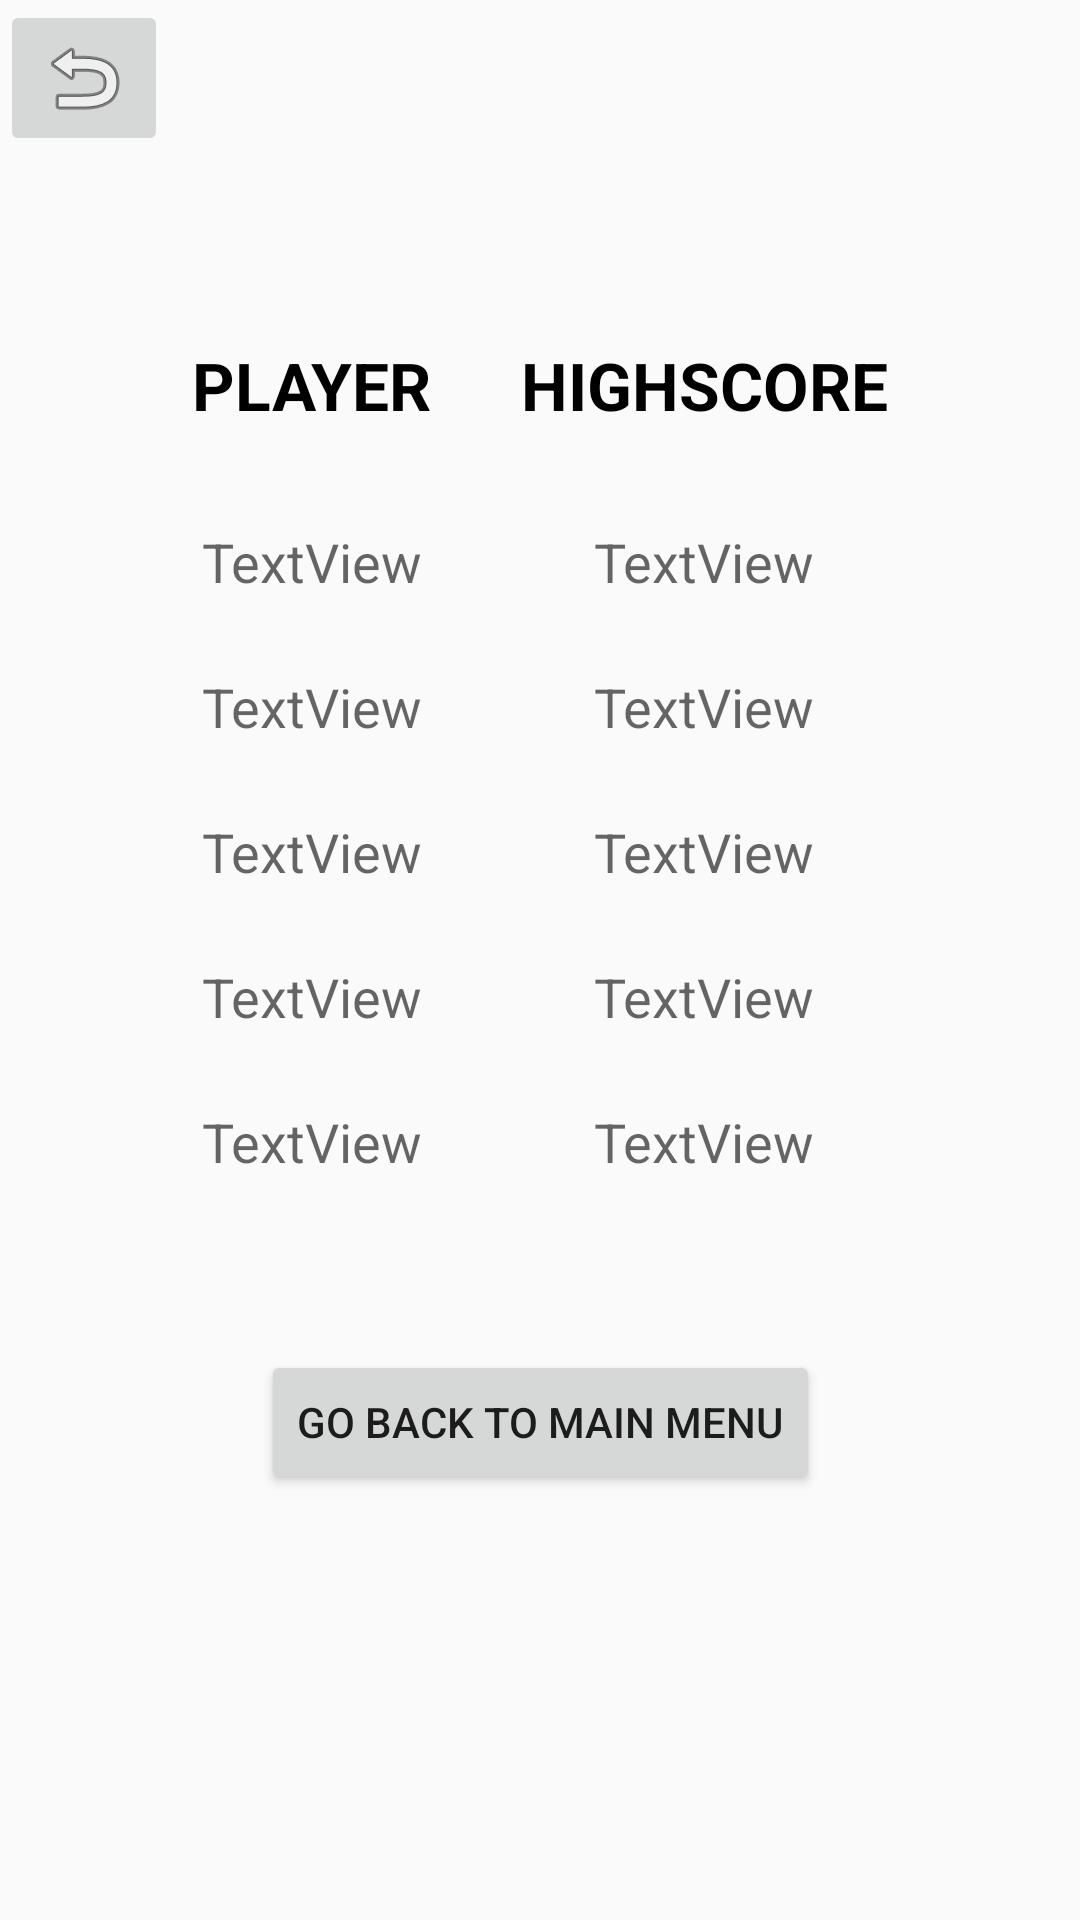

Screen size 1080x1920. Icon name, then its center in pixels as (x=x, y=y):
revert: (x=84, y=78)
